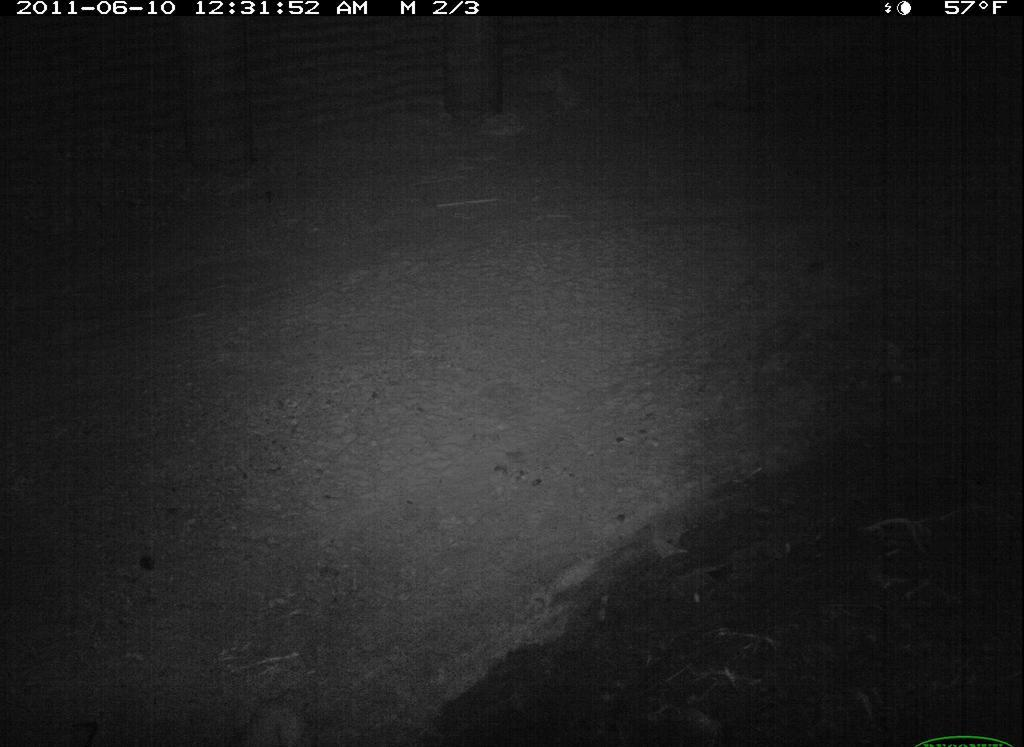bobcat: (195, 667, 353, 745)
